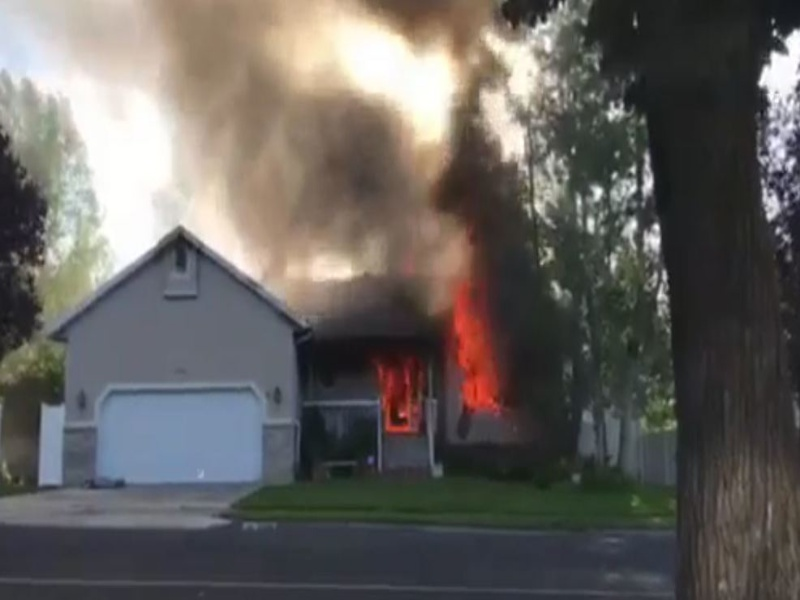fire: (444, 257, 520, 420), (375, 348, 421, 437)
